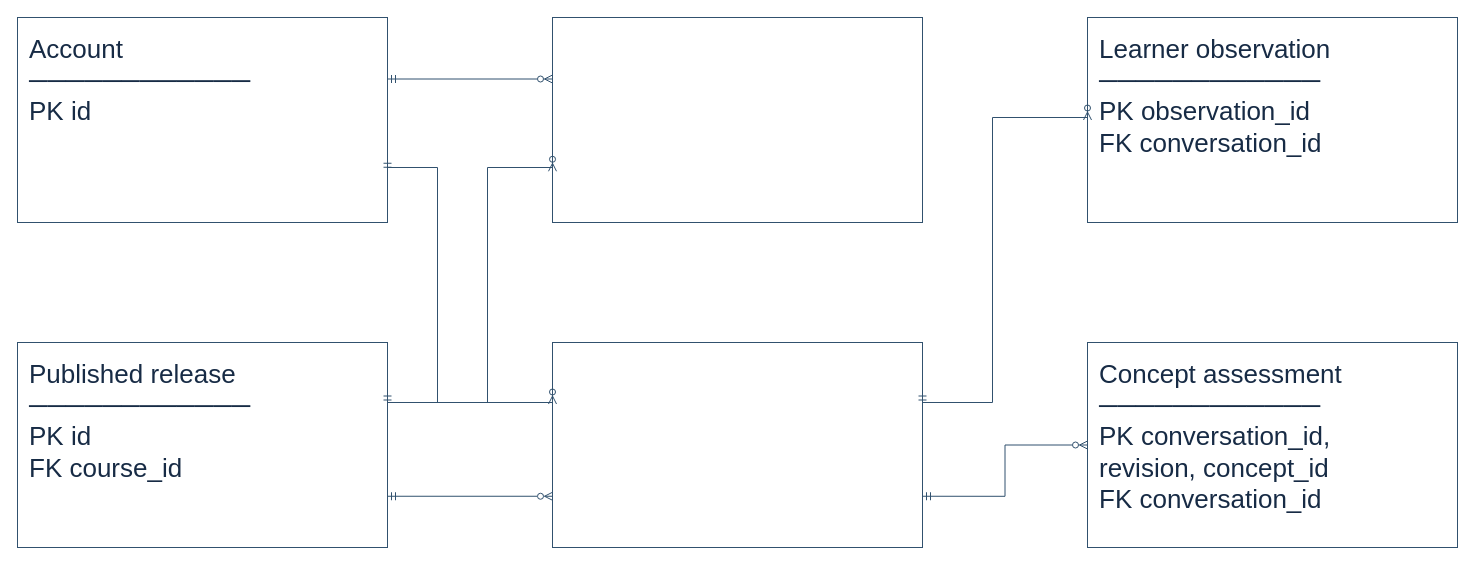
The diagram is 1475 pixels wide and 565 high, and some of its shapes have lost their labels. Here are the shapes that lost their labels. From the top down, the box of each, then its label:
(552, 16, 922, 222): Learning goal ──────────── PK goal_id FK student_id, release_id
(552, 342, 922, 548): Conversation ──────────── PK id FK student_id, release_id
